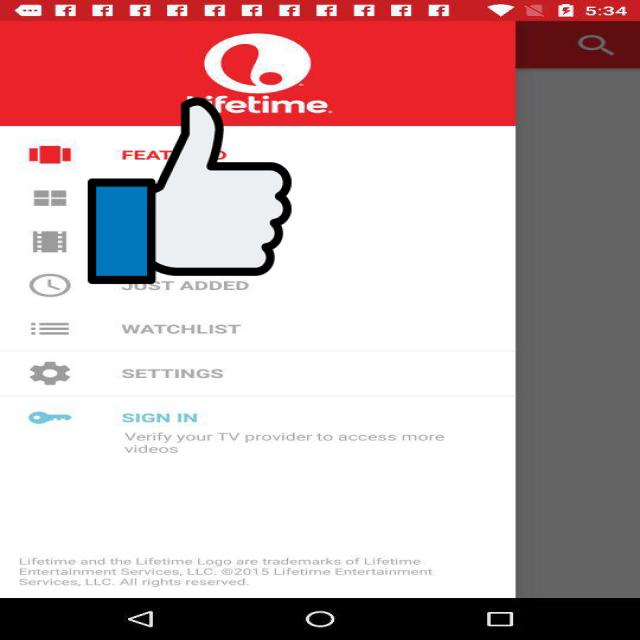privacy zuckering: (88, 93, 292, 288)
